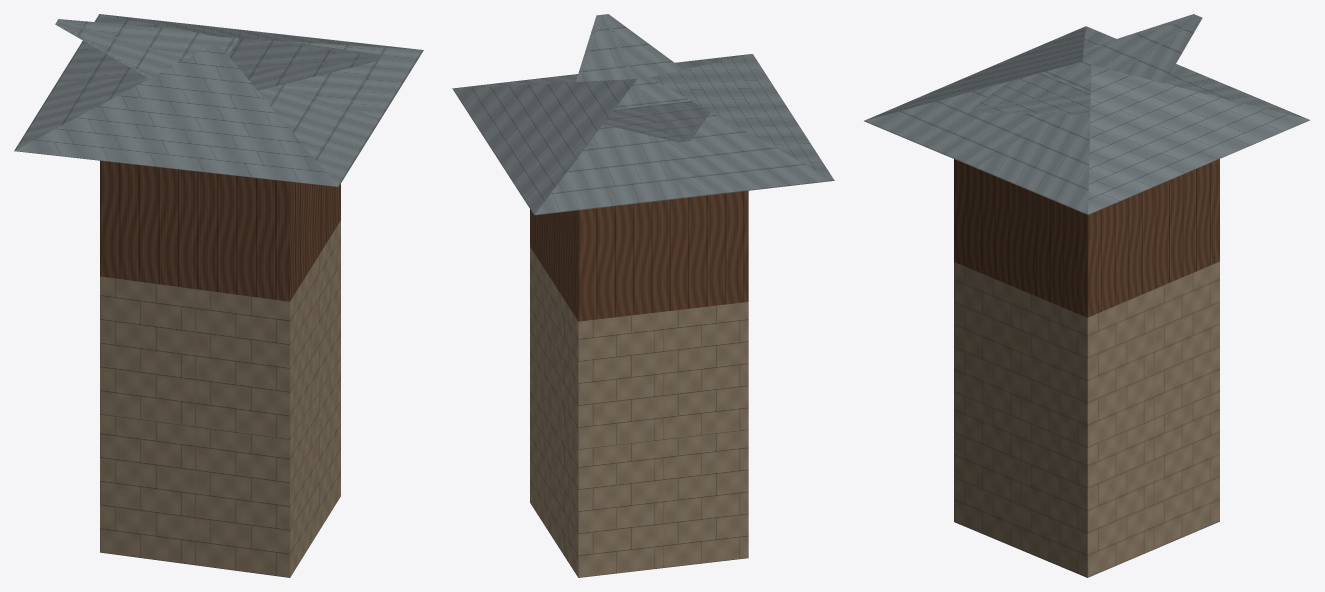
Rendered from bld_c1_22_499.gltf.
The picture shows the model from 3 angles, left to right: view 1: azimuth 30°, elevation 25°; view 2: azimuth 150°, elevation 25°; view 3: azimuth 270°, elevation 25°; orthographic projection. The views are drawn at different scales.
Parts seen in each view (by area): view 1: bld_c1_22_499; view 2: bld_c1_22_499; view 3: bld_c1_22_499.
Part boxes in pixels (bbox=[...]): bld_c1_22_499: bbox=[14, 14, 423, 577]; bld_c1_22_499: bbox=[452, 14, 834, 577]; bld_c1_22_499: bbox=[864, 14, 1309, 577].
Bounding box in the file's own units: 7.07 × 8 × 7.07.
3 materials, 3 textured.
